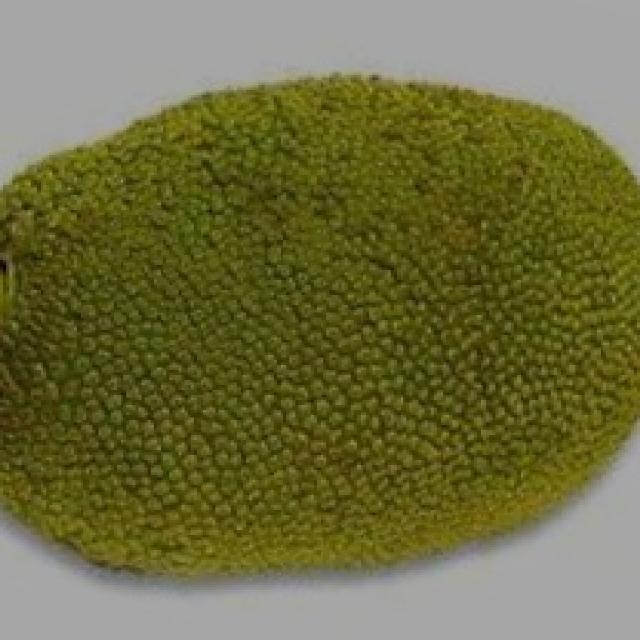Fruit: (274, 195, 640, 603), (252, 40, 640, 322)
